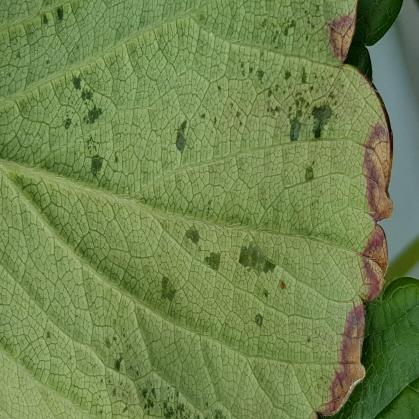Angular Leafspot: (2, 0, 394, 418)
